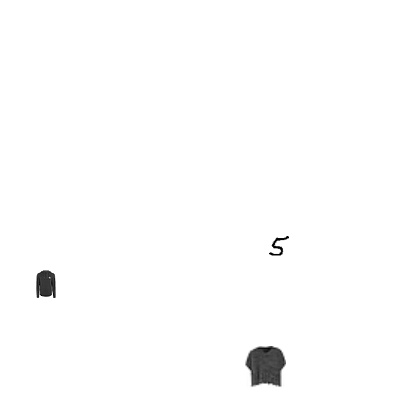5: (264, 232, 292, 260)
Pullover: (244, 346, 286, 388), (32, 270, 60, 298)
